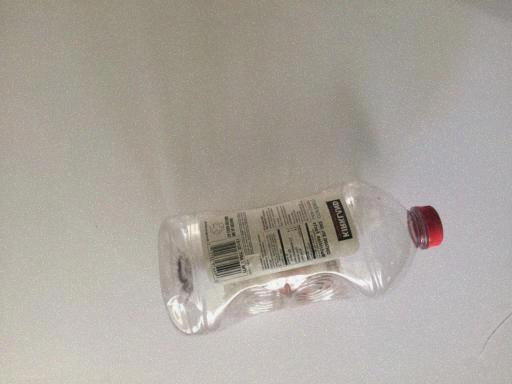plastic: (156, 181, 445, 334)
